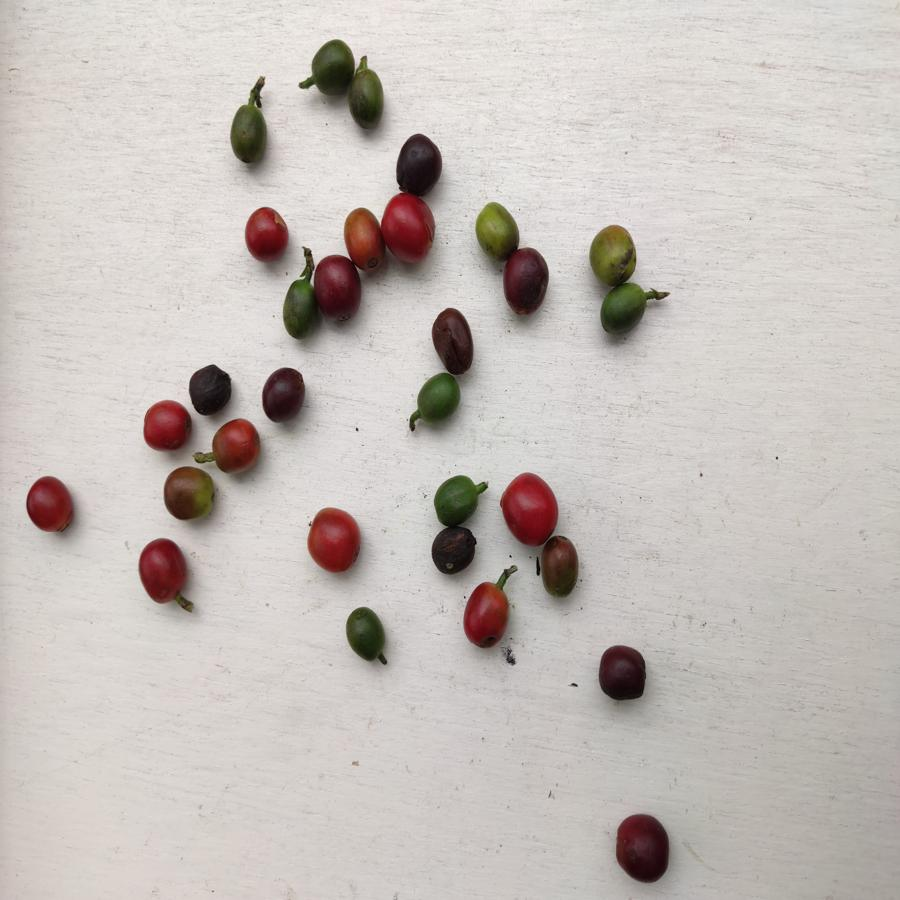Inmaduro: (226, 102, 271, 166), (309, 36, 353, 97), (346, 68, 387, 131), (599, 284, 648, 335), (345, 606, 385, 665), (433, 475, 480, 525), (417, 372, 462, 424), (281, 278, 317, 340)
Maduro: (500, 470, 558, 546), (381, 194, 438, 265), (304, 506, 362, 575), (137, 536, 189, 604), (463, 580, 511, 648), (209, 417, 262, 477), (24, 474, 74, 534), (138, 398, 193, 451), (243, 207, 290, 263)
Pinton: (161, 464, 222, 524), (315, 253, 363, 323), (589, 224, 638, 281), (539, 535, 578, 600), (474, 202, 525, 250)
Sobremaduro: (615, 812, 673, 885), (501, 247, 552, 317), (430, 306, 480, 372), (395, 133, 444, 195), (597, 645, 648, 703), (259, 367, 308, 427), (344, 206, 387, 269), (187, 365, 239, 415), (429, 526, 478, 576)
